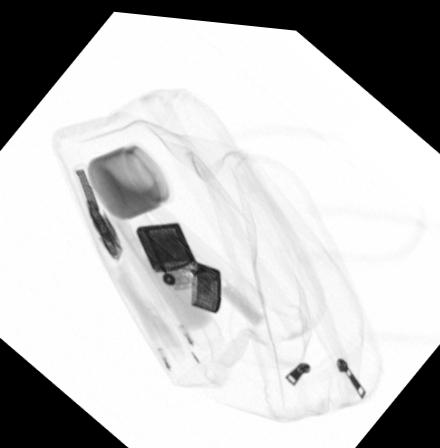Lighter: (133, 218, 221, 310)
